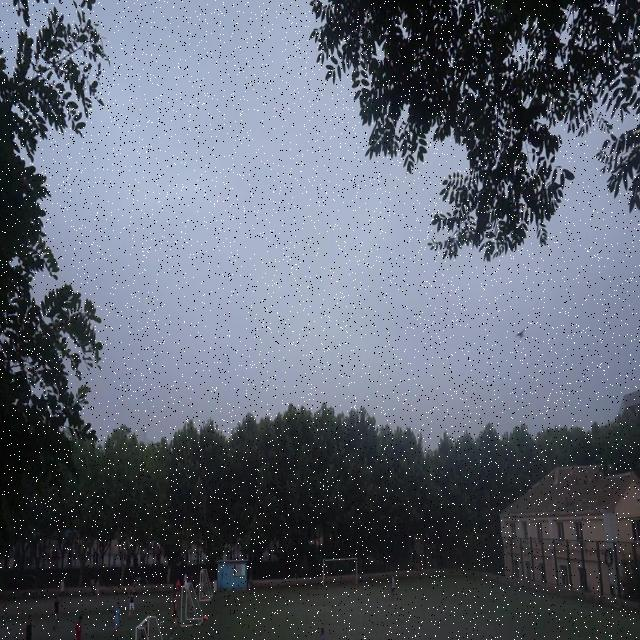UAV: (515, 328, 527, 340)
